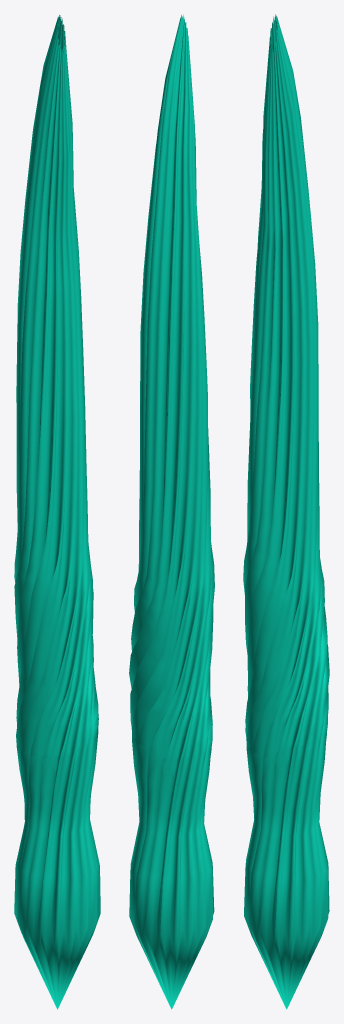
Rendered from Cream2_Y.fbx.
The picture shows the model from 3 angles, left to right: view 1: azimuth 30°, elevation 25°; view 2: azimuth 150°, elevation 25°; view 3: azimuth 330°, elevation 25°; orthographic projection.
Parts seen in each view (by area): view 1: Sikilan_krema2; view 2: Sikilan_krema2; view 3: Sikilan_krema2.
Boxes of the visible parts, left/top/right/bottom form: Sikilan_krema2: left=14, top=15, right=100, bottom=1009; Sikilan_krema2: left=129, top=14, right=214, bottom=1009; Sikilan_krema2: left=243, top=14, right=329, bottom=1009.
Size of the model in its own units: 0.0692 by 0.8853 by 0.069.
